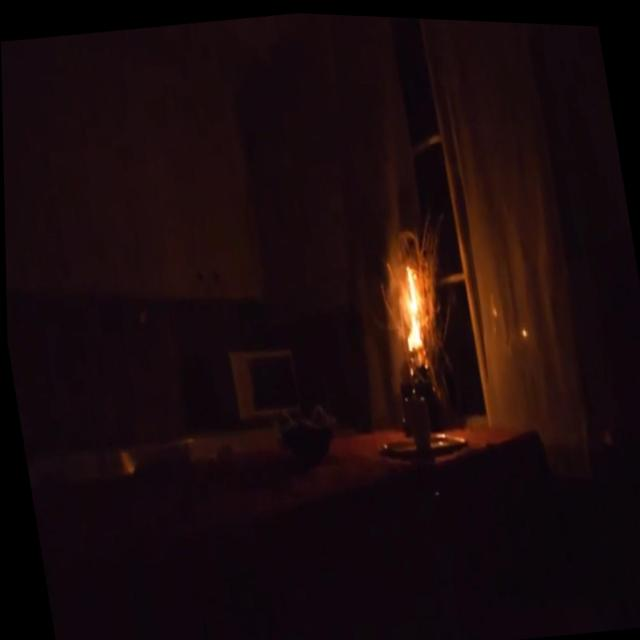fire: (386, 249, 432, 360)
